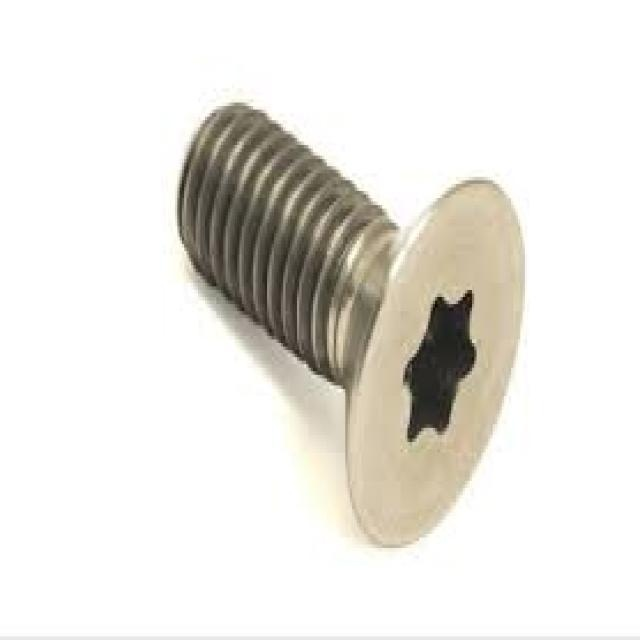torx: (346, 175, 527, 550)
